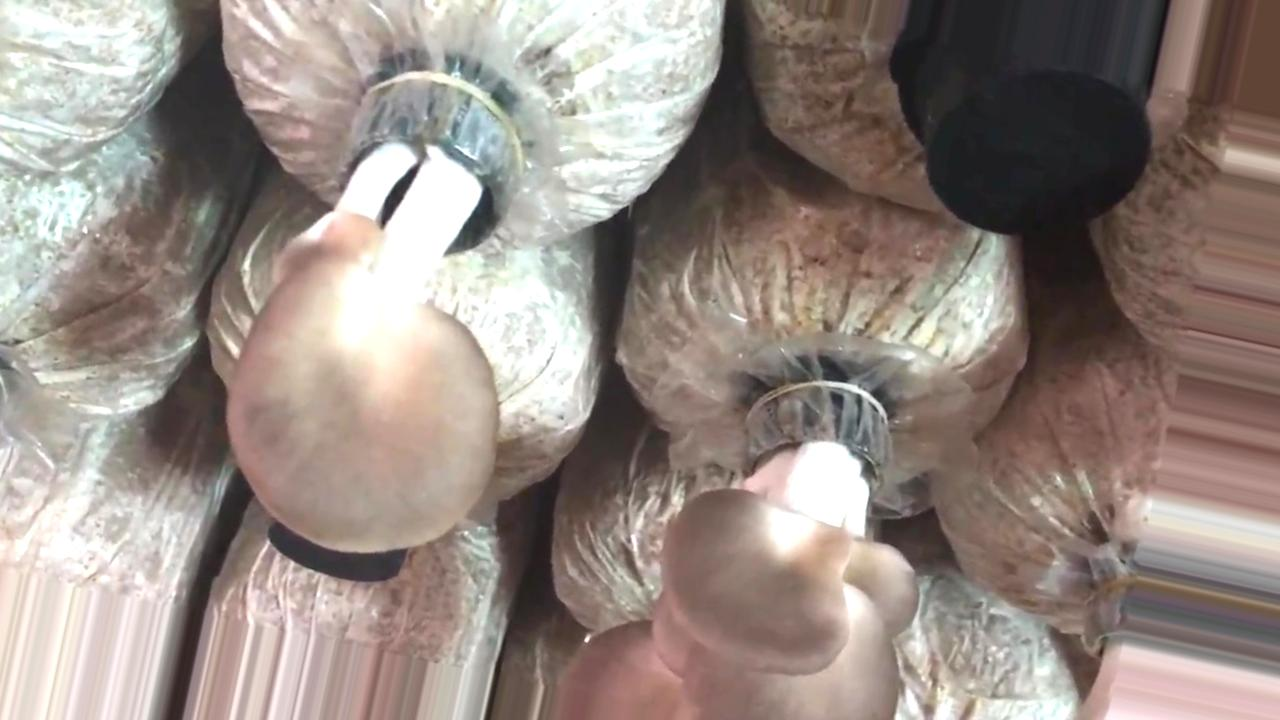nam: (224, 77, 534, 552), (564, 380, 917, 719)
